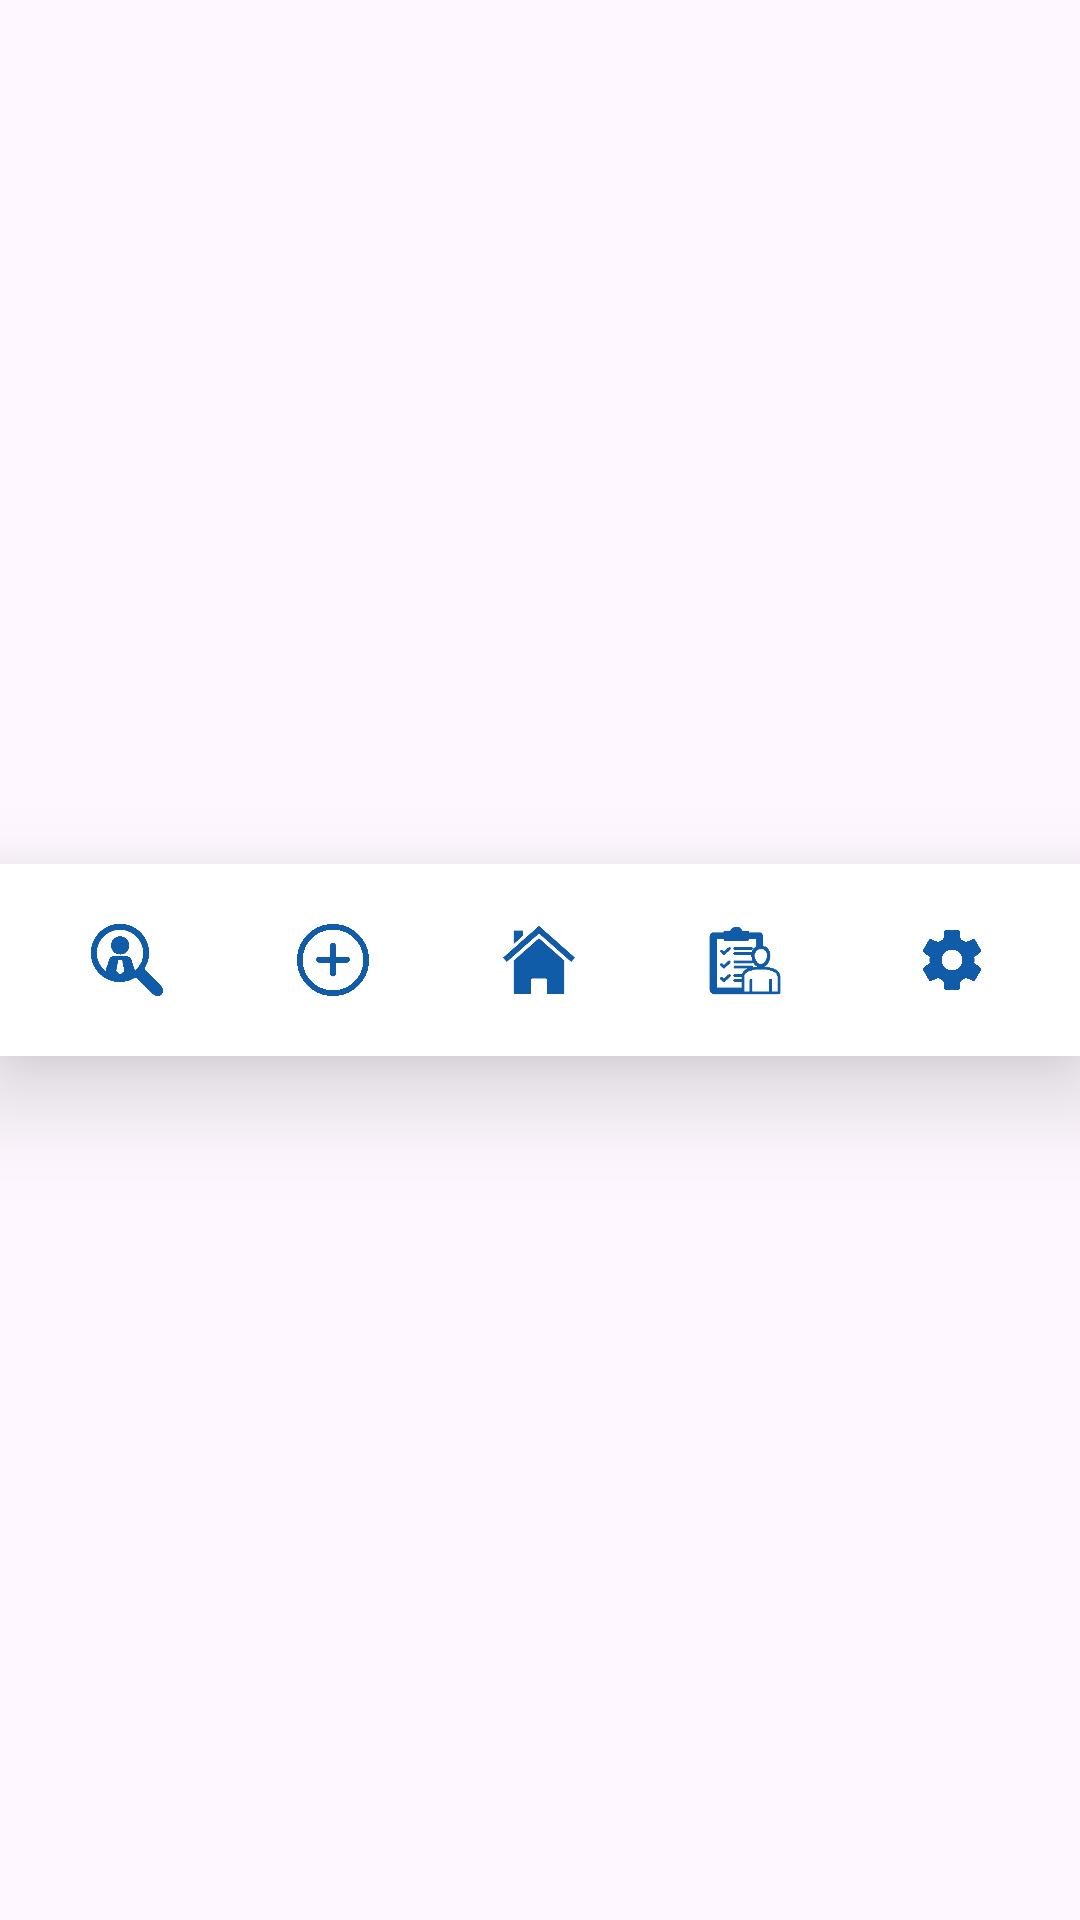

Where icons sit on this 1080×1920 app screen, as box(x1, y1, x2, y2):
add: box(297, 924, 369, 996)
hire: box(91, 924, 163, 996)
home: box(503, 926, 575, 994)
services and requests: box(709, 927, 781, 995)
settings: box(923, 930, 981, 990)
